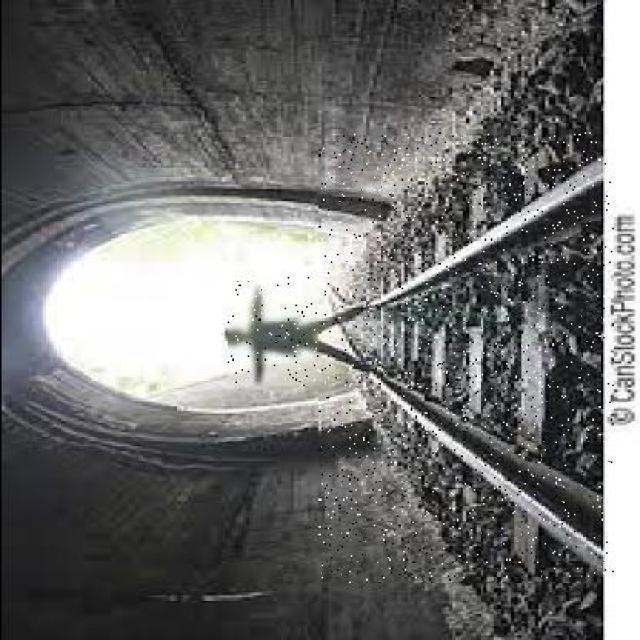rail: (318, 133, 613, 583)
